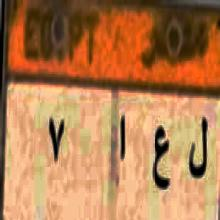7: (45, 110, 73, 170)
ain: (150, 119, 173, 207)
alif: (115, 108, 133, 176)
laam: (184, 118, 212, 186)
